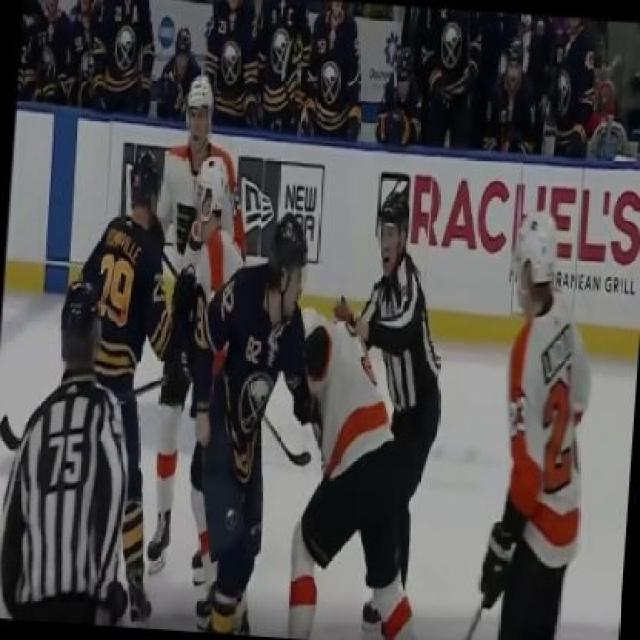fight: (198, 216, 415, 640), (66, 151, 250, 587)
non-fight: (471, 216, 591, 640), (330, 196, 440, 636), (148, 74, 246, 556), (4, 287, 137, 628)
